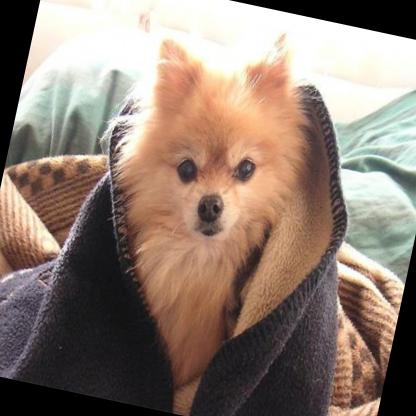Pomeranian: (63, 3, 334, 416)
